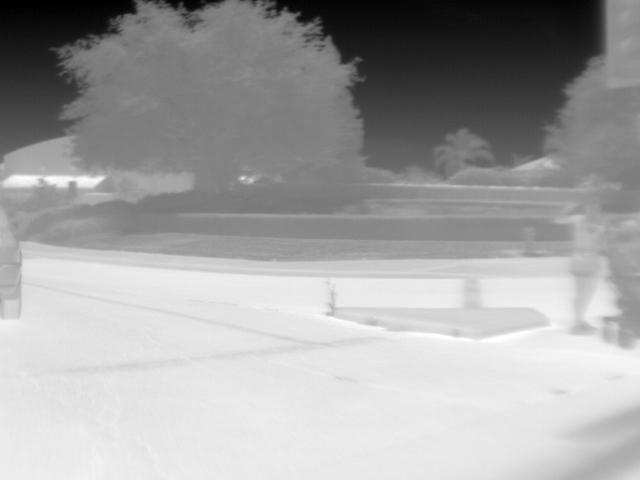car: (0, 200, 24, 322)
person: (554, 197, 608, 335)
